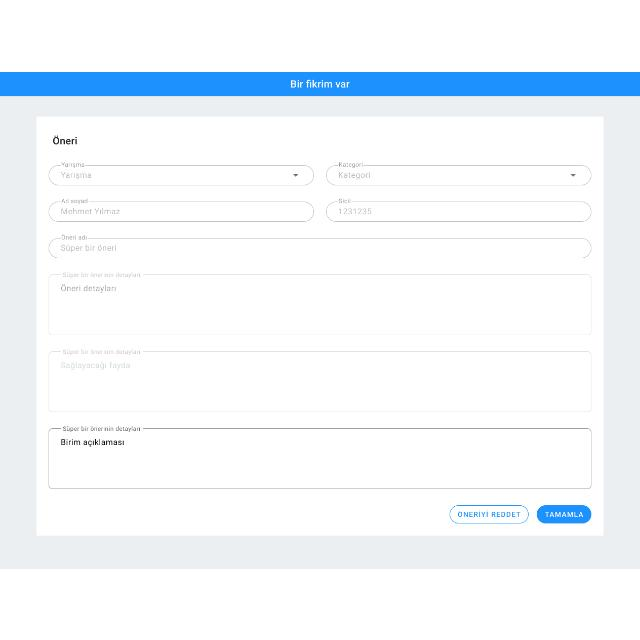QLabel: (290, 77, 350, 89), (456, 509, 522, 518), (50, 132, 80, 146), (543, 509, 583, 518)
VAppBar: (0, 71, 640, 95)
VBtn: (450, 504, 528, 524), (537, 503, 591, 522)
VCard: (36, 114, 604, 536)
VCombobox: (326, 159, 592, 185), (50, 162, 314, 186)
VTextField: (48, 235, 590, 258), (326, 198, 592, 222), (49, 197, 314, 221)
VTextarea: (46, 271, 592, 335), (47, 348, 591, 412), (48, 426, 592, 488)
